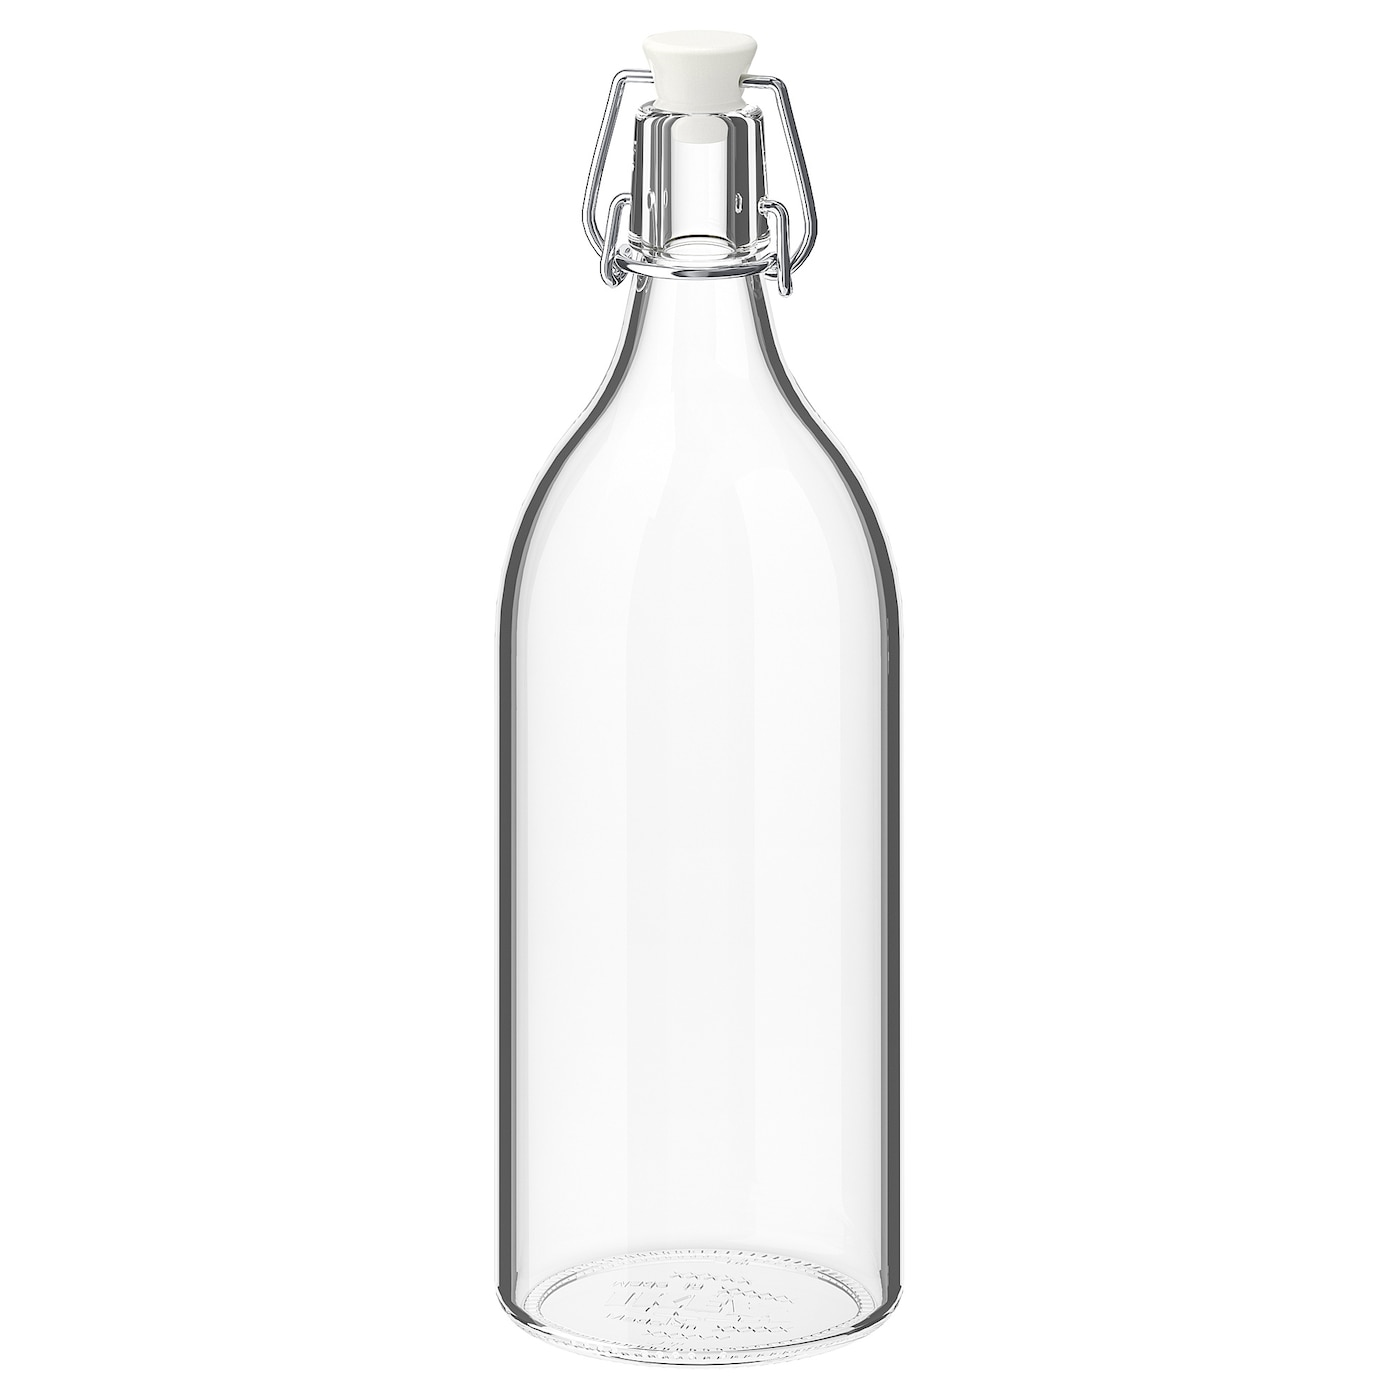glass_bottle: (469, 15, 938, 1385)
